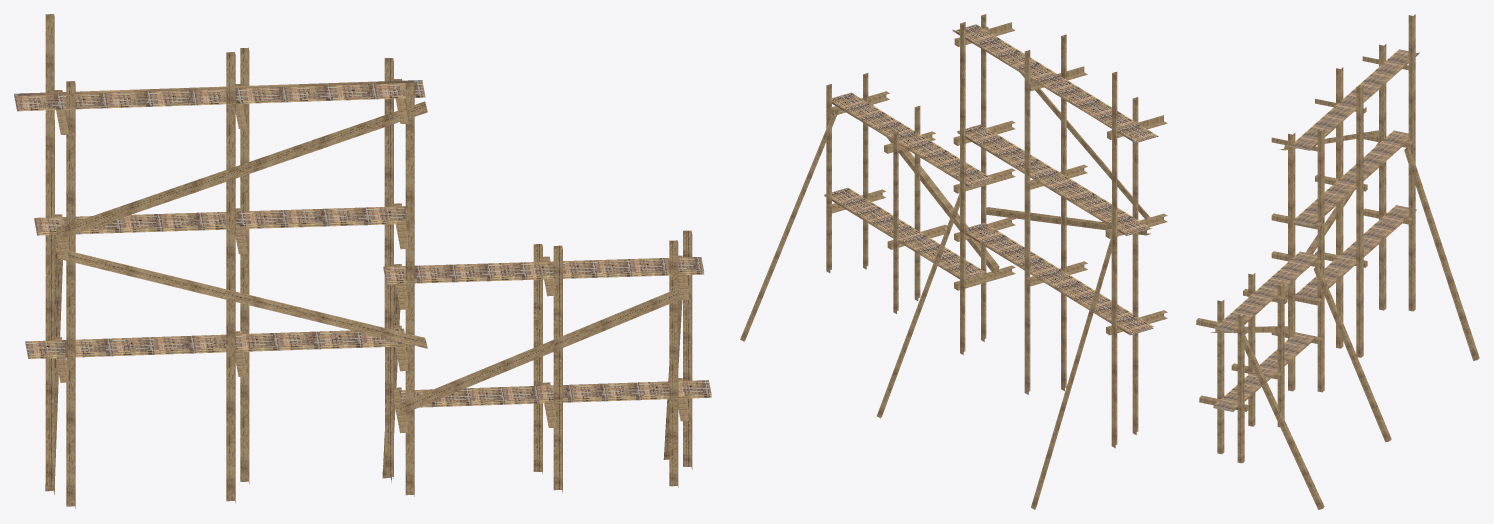
Rendered from stage-maya-p5-4.glb.
3 renders of one model, left to right at view 1: azimuth 30°, elevation 25°; view 2: azimuth 150°, elevation 25°; view 3: azimuth 270°, elevation 25°, orthographic. The views are drawn at different scales.
Size of the model in its own units: 44.93 by 38.37 by 29.82.
2 materials, 2 textured.
